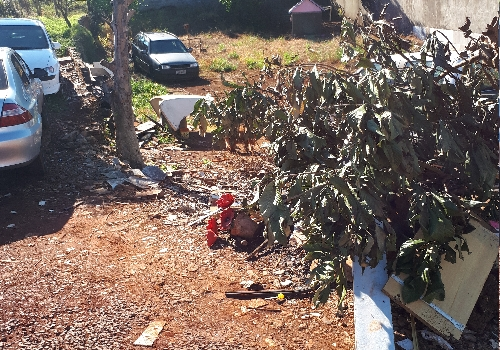trash: (229, 219, 492, 339), (71, 46, 246, 175)
